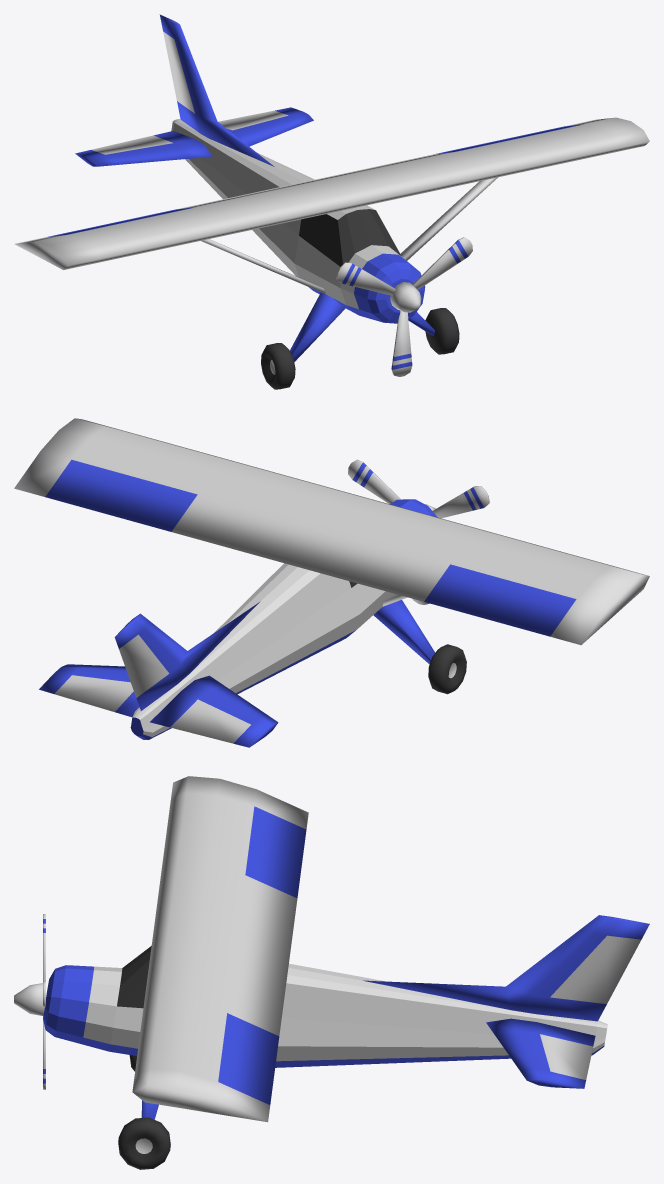
The model's file is airplane-keyframe.glb.
3 views of the same model, one above another, from view 1: azimuth 30°, elevation 25°; view 2: azimuth 150°, elevation 25°; view 3: azimuth 270°, elevation 25° (orthographic). The views are drawn at different scales.
Parts seen in each view (by area): view 1: Plane.035, Plane, Circle.007; view 2: Plane.035, Plane, Circle.007; view 3: Plane.035, Plane, Circle.007.
Boxes of the visible parts, x1=… form: Plane.035: x1=14, y1=14, x2=649, y2=389; Plane: x1=171, y1=119, x2=425, y2=323; Circle.007: x1=336, y1=237, x2=472, y2=376; Plane.035: x1=14, y1=418, x2=649, y2=747; Plane: x1=130, y1=499, x2=437, y2=739; Circle.007: x1=348, y1=459, x2=489, y2=604; Plane.035: x1=118, y1=776, x2=649, y2=1169; Plane: x1=43, y1=946, x2=607, y2=1067; Circle.007: x1=14, y1=914, x2=45, y2=1089.
Size of the model in its own units: 8.31 by 2.71 by 7.14.
